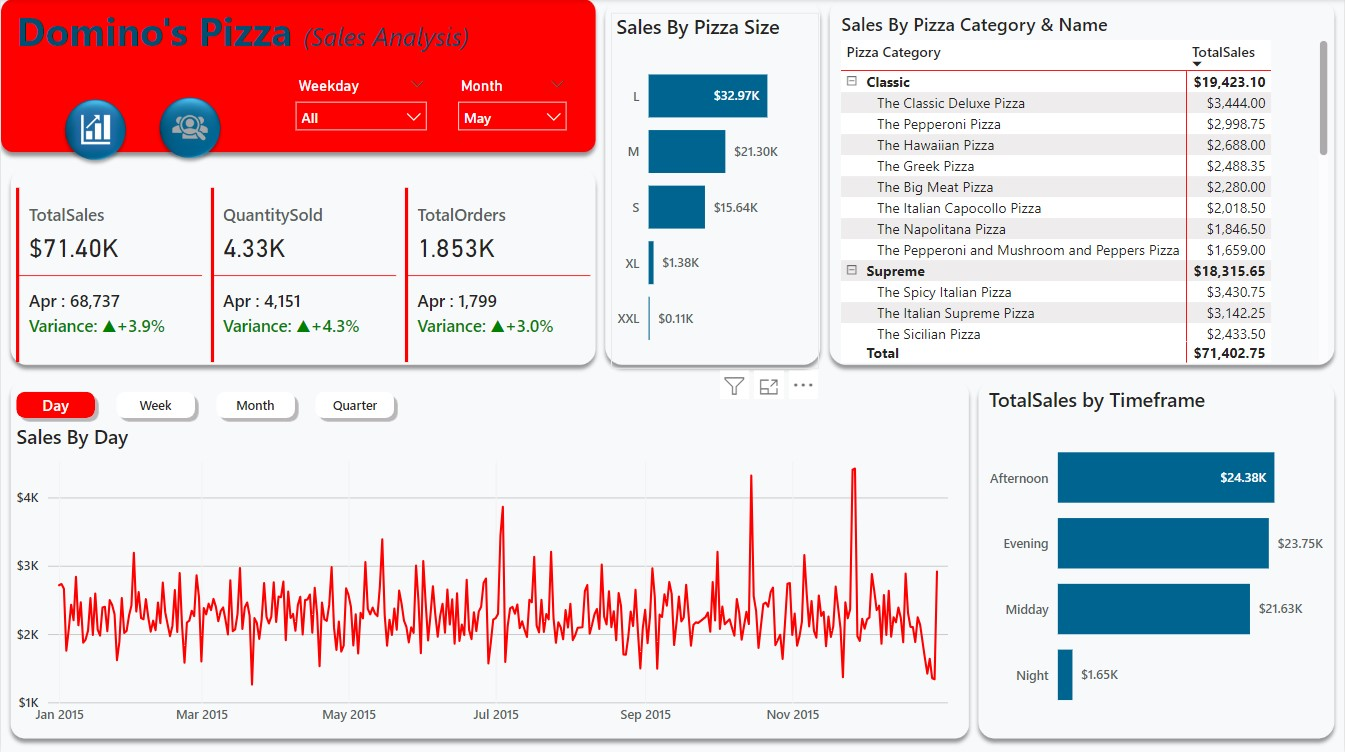

The dashboard page shown, as its layout file describes it:
{"tool":"powerbi","page":{"name":"Page 1","canvas":[1280,720],"ordinal":0},"visuals":[{"type":"slicer","fields":{"Values":["date_table.Month"]},"box":[425,69,123.8,70.2],"z":0},{"type":"cardVisual","fields":{"Data":["Calculations.TotalSales","Calculations.QuantitySold","Calculations.TotalOrders"]},"box":[9.5,175,558.3,176.2],"z":1000},{"type":"slicer","fields":{"Values":["date_table.Weekday"]},"box":[270.2,69,145.2,69],"z":2000},{"type":"clusteredBarChart","title":"Sales By Pizza Size","fields":{"Category":["sales_table.pizza_size"],"Y":["Calculations.TotalSales"]},"box":[581,13.1,198.8,339.3],"z":3000},{"type":"pivotTable","title":"Sales By Pizza Category & Name","fields":{"Rows":["sales_table.pizza_category","sales_table.pizza_name"],"Values":["Calculations.TotalSales"]},"box":[795.2,11.9,473.8,339.3],"z":4000},{"type":"clusteredBarChart","fields":{"Category":["sales_table.Timeframe"],"Y":["Calculations.TotalSales"]},"box":[935.7,369,333.3,331],"z":5000},{"type":"lineChart","title":"Sales By Day","fields":{"Y":["Calculations.TotalSales"],"Category":["date_table.Date"]},"box":[22.6,403.6,913.1,296.4],"z":6000},{"type":"bookmarkNavigator","box":[9.5,369,370.2,35],"z":10000},{"type":"textbox","box":[9.5,0,504.8,61.9],"z":11000},{"type":"actionButton","box":[144,88.1,71.4,71.4],"z":12000}]}

Visuals, with their boxes in screenshot pixels (x1, y1, x2, y2), scaled from the page's 1280x720 canvas onto the 1345x752 screenshot:
slicer - date_table.Month: <region>447, 72, 577, 145</region>
cardVisual - Calculations.TotalSales x Calculations.QuantitySold: <region>10, 183, 597, 367</region>
slicer - date_table.Weekday: <region>284, 72, 436, 144</region>
"Sales By Pizza Size" clusteredBarChart: <region>611, 14, 819, 368</region>
"Sales By Pizza Category & Name" pivotTable: <region>836, 12, 1333, 367</region>
clusteredBarChart - sales_table.Timeframe x Calculations.TotalSales: <region>983, 385, 1333, 731</region>
"Sales By Day" lineChart: <region>24, 422, 983, 731</region>
bookmarkNavigator: <region>10, 385, 399, 422</region>
textbox: <region>10, 0, 540, 65</region>
actionButton: <region>151, 92, 226, 167</region>
